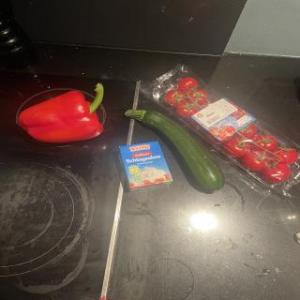tomato: (142, 61, 300, 204)
zucchini: (124, 108, 238, 199)
